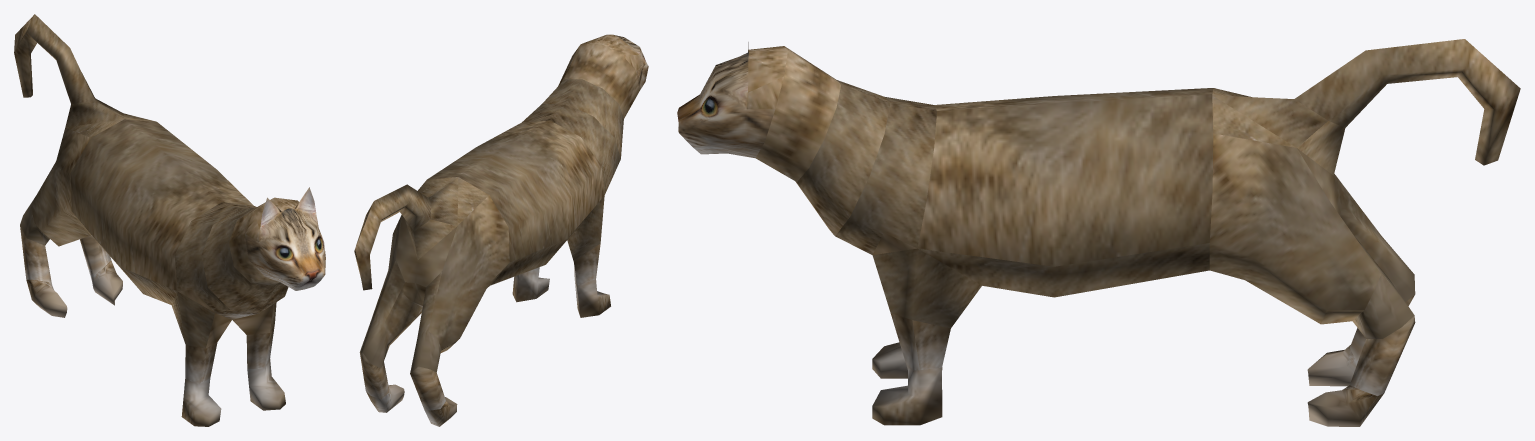
Rendered from captainWhiskers.glb.
3 renders of one model, left to right at view 1: azimuth 30°, elevation 25°; view 2: azimuth 150°, elevation 25°; view 3: azimuth 270°, elevation 25°, orthographic. The views are drawn at different scales.
Visible parts, largest first — view 1: CaptainWhiskers; view 2: CaptainWhiskers; view 3: CaptainWhiskers.
Boxes of the visible parts, x1,y1,x2,y2 form: CaptainWhiskers: [14, 14, 325, 426]; CaptainWhiskers: [354, 34, 648, 426]; CaptainWhiskers: [677, 39, 1520, 426].
Bounding box in the file's own units: 2.13 × 4.53 × 9.19.
1 material, 1 textured.
